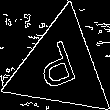P_S: (35, 37, 85, 97)
